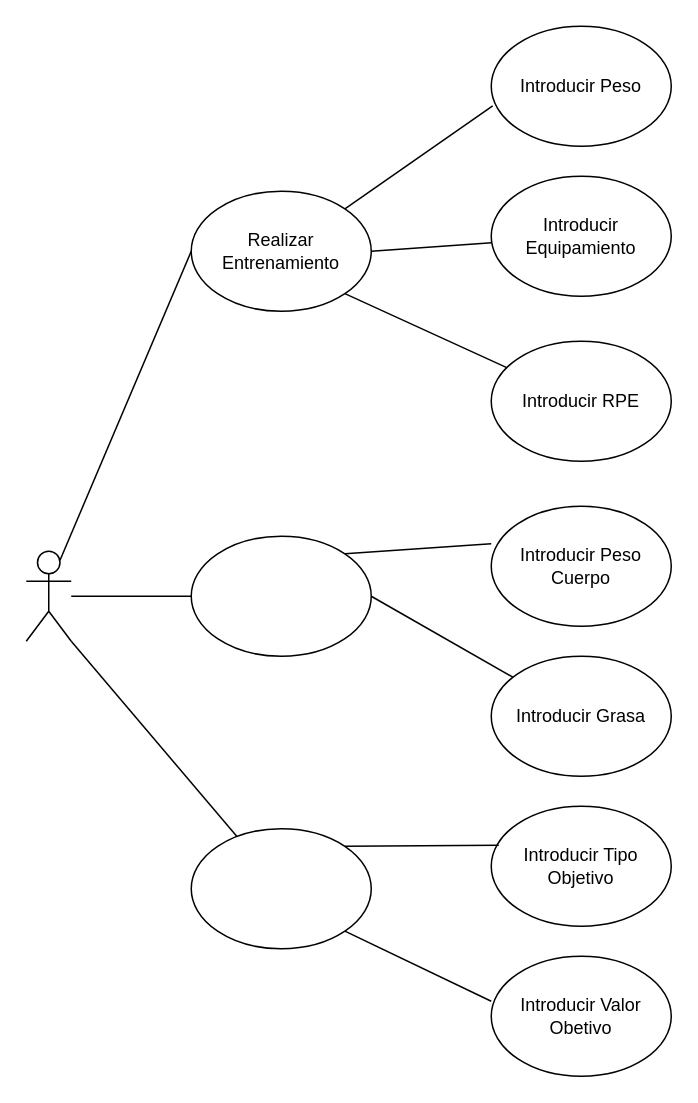
The diagram is 698 pixels wide and 1103 high, and some of its shapes have lost their labels. The centre of each missing label's shape, as x and y in pixels:
Actor: point 48,595
Registar Objetivo: point 280,888
Registrar Medida: point 280,595
